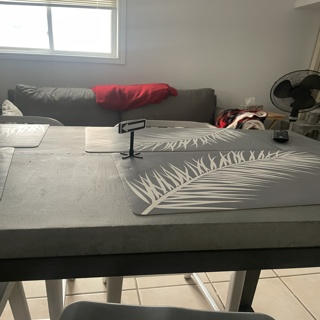sign_oneway_left: (116, 119, 143, 133)
